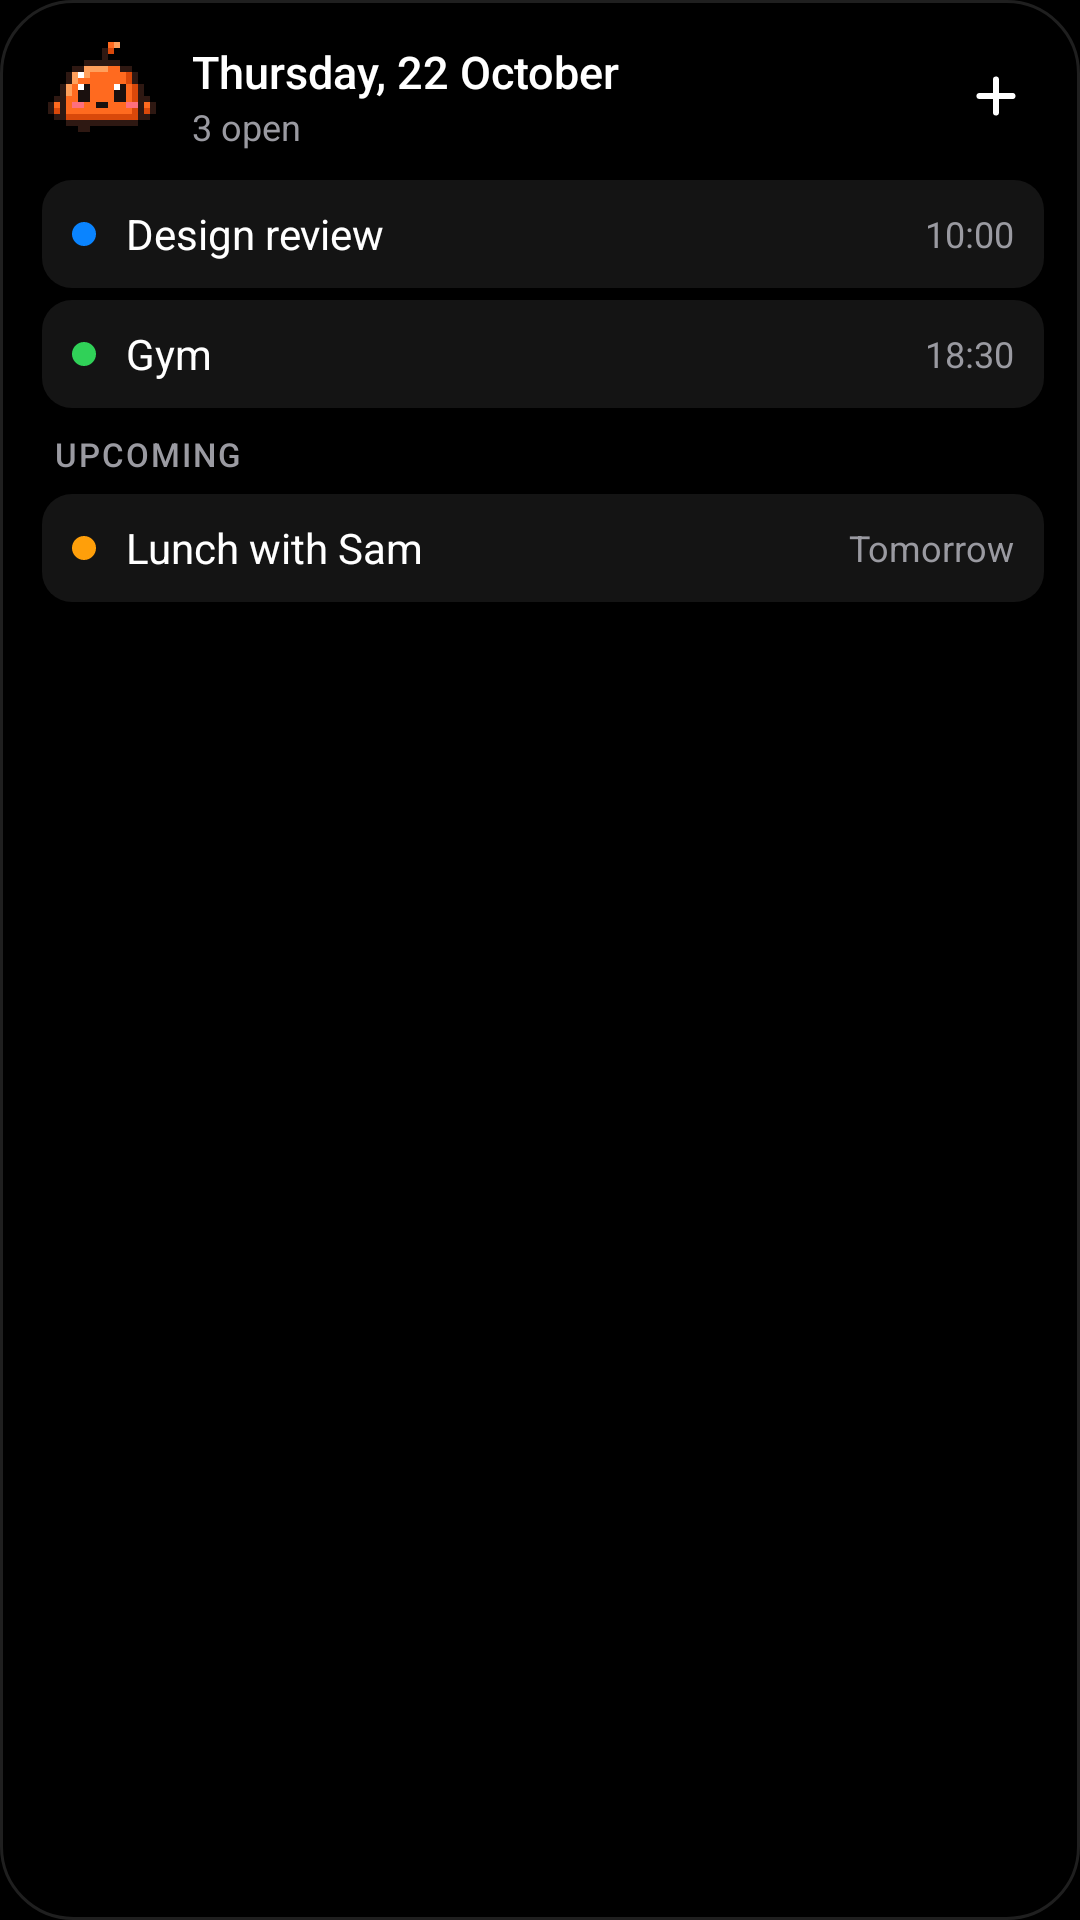

Named icons in this screenshot (1080 × 1920) and their bounding boxes, (x1, y1, x2, y2):
New task: (976, 76, 1016, 116)
Patch pet: (48, 42, 156, 132)
